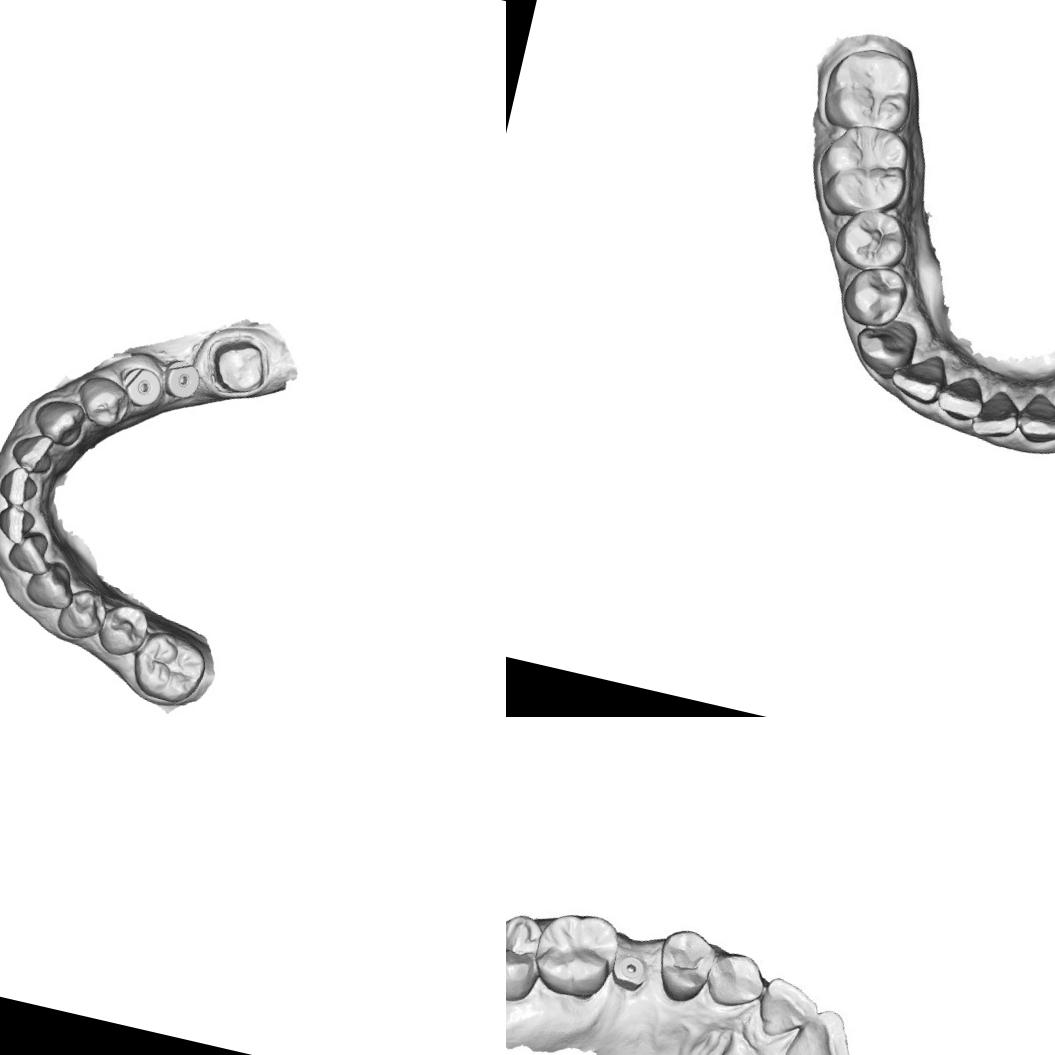canine: (846, 311, 921, 383), (702, 946, 772, 1016), (22, 554, 81, 614), (28, 394, 90, 450)
crown: (200, 327, 279, 404)
implant: (158, 354, 206, 404), (117, 362, 166, 410), (608, 950, 652, 992)
incisor: (751, 970, 823, 1046), (779, 1000, 861, 1055), (888, 347, 958, 408), (969, 384, 1027, 452), (933, 370, 994, 432), (4, 524, 57, 579), (7, 426, 60, 477), (1014, 392, 1055, 449), (0, 462, 43, 511), (0, 502, 38, 547)
molar: (809, 118, 920, 222), (819, 39, 925, 139), (526, 902, 622, 1004), (125, 625, 213, 709), (506, 903, 550, 1008)
premolar: (649, 921, 721, 1008), (832, 203, 910, 274), (841, 255, 913, 329), (53, 582, 115, 647), (69, 370, 134, 432), (95, 598, 150, 662)
